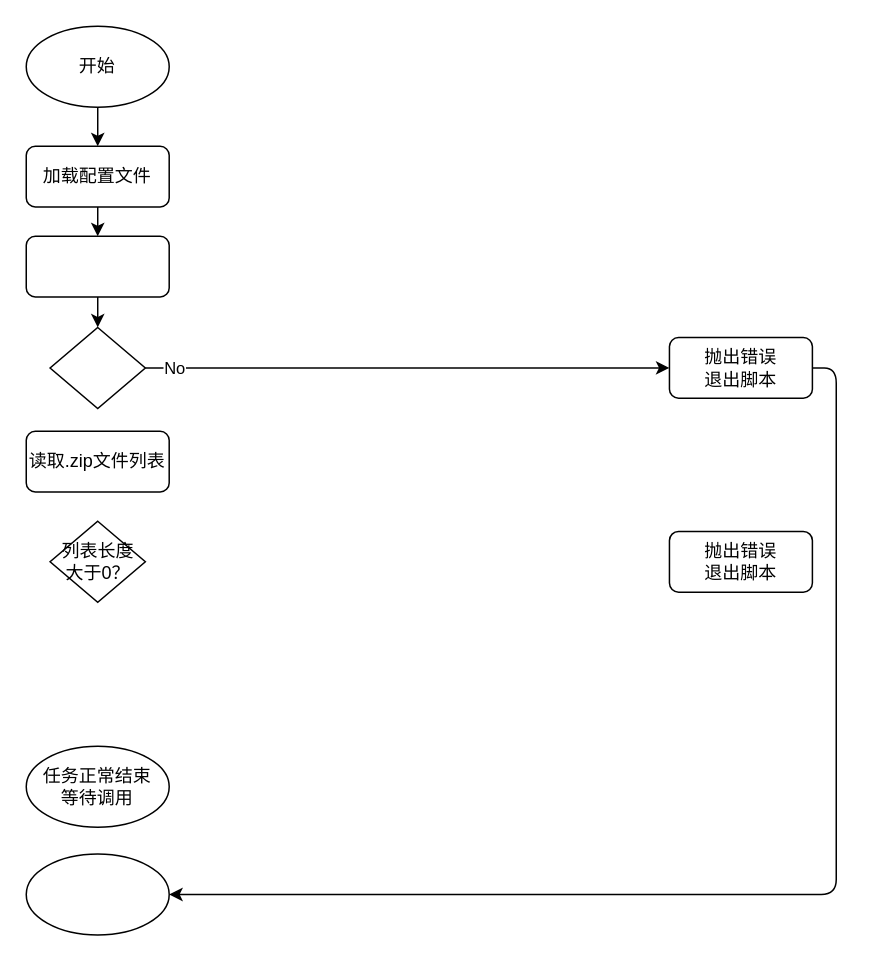
The diagram is 875 pixels wide and 962 high, and some of its shapes have lost their labels. The shapes that lost their labels are listed below. From the top down, each one's box as (x1, y1, x2, y2) in pixels, then its label:
(25, 235, 169, 297): 检测hdfs连接
(49, 326, 145, 408): 连接正常？
(25, 852, 169, 935): 结束
